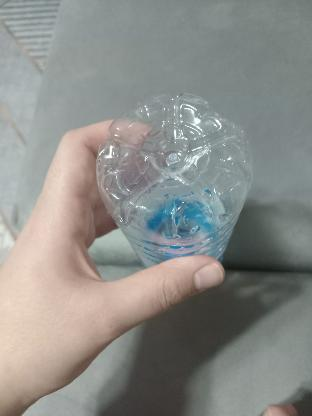Plastic Bottle: (88, 90, 254, 272)
